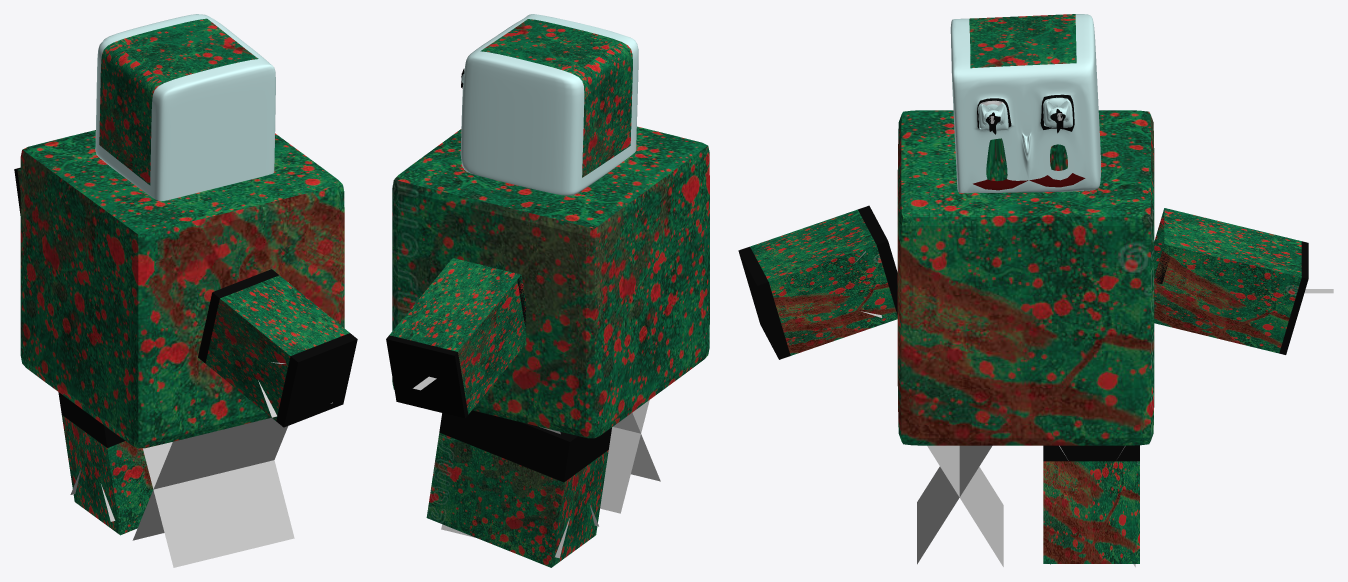
3 renders of one model, left to right at view 1: azimuth 30°, elevation 25°; view 2: azimuth 150°, elevation 25°; view 3: azimuth 270°, elevation 25°, orthographic. The views are drawn at different scales.
Parts seen in each view (by area): view 1: Cube_Cube.001, Cube.001_Cube.002, Cube.005_Cube.007, RectLL1.001_Plane.011, Cube.003_Cube.004, RectRL1_Plane.009; view 2: Cube_Cube.001, Cube.001_Cube.002, Cube.003_Cube.004, Cube.004_Cube.005, RectRL1_Plane.009, RectLL1.001_Plane.011; view 3: Cube_Cube.001, Cube.001_Cube.002, Cube.004_Cube.005, Cube.005_Cube.007, Cube.003_Cube.004, RectRL1_Plane.009, RectLL1.001_Plane.011.
Part boxes in pixels (x1,y1,x2,y2): Cube_Cube.001: (20,130,344,448); Cube.001_Cube.002: (95,14,275,201); Cube.005_Cube.007: (198,269,357,427); RectLL1.001_Plane.011: (143,442,294,567); Cube.003_Cube.004: (58,392,153,535); RectRL1_Plane.009: (132,418,288,540); Cube_Cube.001: (392,126,709,438); Cube.001_Cube.002: (460,14,638,195); Cube.003_Cube.004: (426,410,611,567); Cube.004_Cube.005: (386,258,525,418); RectRL1_Plane.009: (600,400,649,513); RectLL1.001_Plane.011: (613,413,660,481); Cube_Cube.001: (897,110,1154,445); Cube.001_Cube.002: (950,14,1100,192); Cube.004_Cube.005: (1154,208,1308,354); Cube.005_Cube.007: (738,205,897,359); Cube.003_Cube.004: (1043,445,1139,563); RectRL1_Plane.009: (927,445,1003,566); RectLL1.001_Plane.011: (917,445,992,564).
Size of what is drawn, in the model's own units: 1.46 by 3.2 by 3.38.
Materials: 14 (1 with a texture image).
